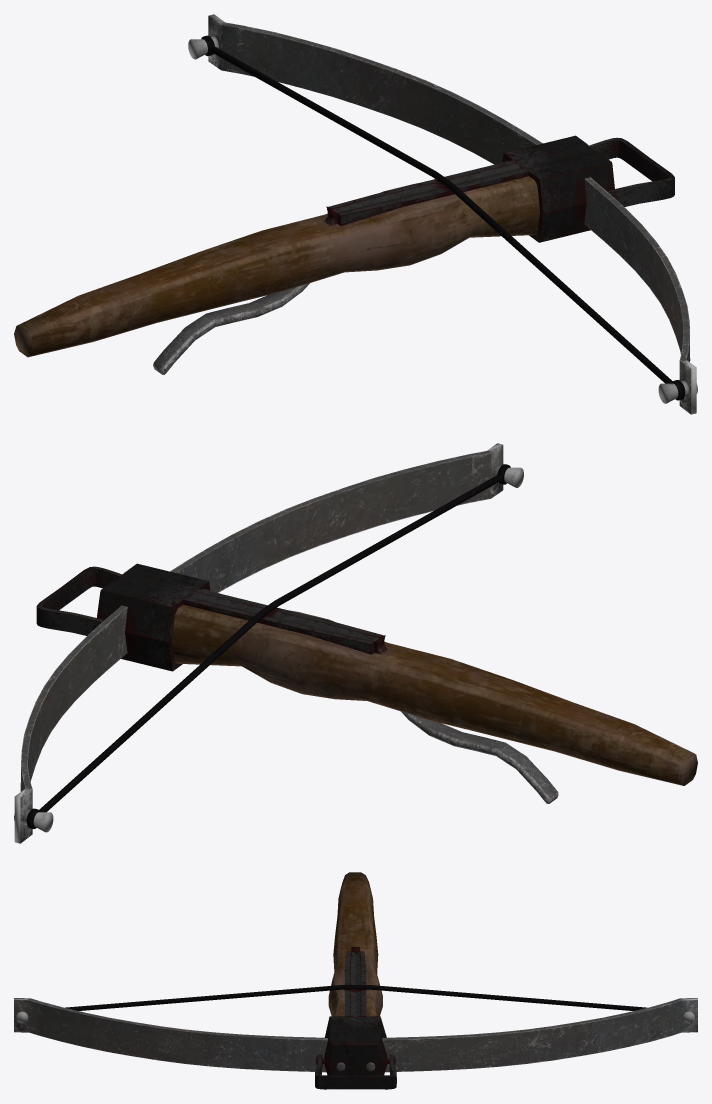
File: heavy_crossbow.glb
3 views of the same model, one above another, from view 1: azimuth 30°, elevation 25°; view 2: azimuth 150°, elevation 25°; view 3: azimuth 270°, elevation 25° (orthographic). The views are drawn at different scales.
Visible parts, largest first — view 1: heavy_crossbow; view 2: heavy_crossbow; view 3: heavy_crossbow.
Boxes of the visible parts, left/top/right/bottom form: heavy_crossbow: left=14, top=14, right=697, bottom=414; heavy_crossbow: left=14, top=443, right=697, bottom=843; heavy_crossbow: left=14, top=872, right=697, bottom=1089.
Size of the model in its own units: 0.78 by 0.1487 by 1.04.
Materials: 7 (7 with a texture image).
